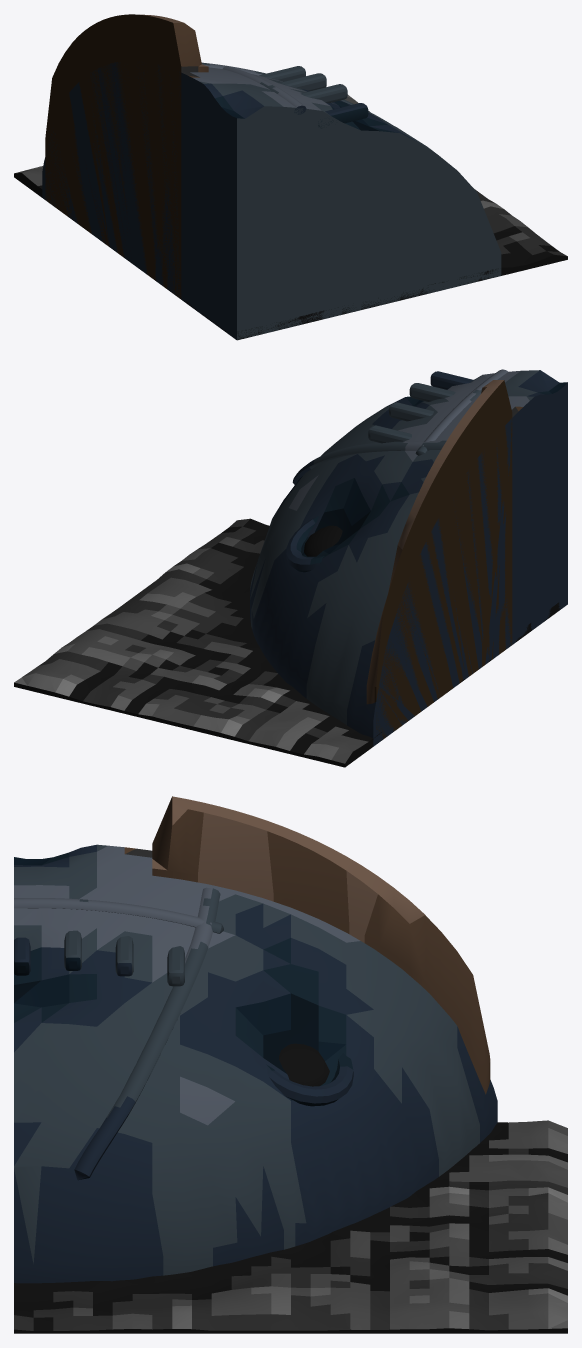
Rendered from armour_dome_wreck_tr.glb.
The picture shows the model from 3 angles, top to bottom: view 1: azimuth 30°, elevation 25°; view 2: azimuth 150°, elevation 25°; view 3: azimuth 270°, elevation 25°; orthographic projection. The views are drawn at different scales.
Parts seen in each view (by area): view 1: armour_dome_wreck_tr_shell, armour_dome_wreck_tr_housing, armour_dome_wreck_tr_tiles, armour_dome_wreck_tr_vent3, armour_dome_wreck_tr_seam_right, armour_dome_wreck_tr_vent2, armour_dome_wreck_tr_vent1, armour_dome_wreck_tr_vent0; view 2: armour_dome_wreck_tr_shell, armour_dome_wreck_tr_tiles, armour_dome_wreck_tr_housing, armour_dome_wreck_tr_ridge_r, armour_dome_wreck_tr_port_ring_r, armour_dome_wreck_tr_seam_right, armour_dome_wreck_tr_port_r, armour_dome_wreck_tr_vent1, armour_dome_wreck_tr_vent2, armour_dome_wreck_tr_vent0, armour_dome_wreck_tr_vent3; view 3: armour_dome_wreck_tr_shell, armour_dome_wreck_tr_tiles, armour_dome_wreck_tr_housing, armour_dome_wreck_tr_ridge_r, armour_dome_wreck_tr_seam_right, armour_dome_wreck_tr_port_ring_r, armour_dome_wreck_tr_port_r, armour_dome_wreck_tr_vent1, armour_dome_wreck_tr_vent2, armour_dome_wreck_tr_vent0.
Part boxes in pixels (left/top/right/bottom): armour_dome_wreck_tr_shell: left=42, top=62, right=501, bottom=340; armour_dome_wreck_tr_housing: left=45, top=14, right=208, bottom=299; armour_dome_wreck_tr_tiles: left=14, top=94, right=567, bottom=339; armour_dome_wreck_tr_vent3: left=318, top=103, right=368, bottom=128; armour_dome_wreck_tr_seam_right: left=223, top=66, right=306, bottom=114; armour_dome_wreck_tr_vent2: left=300, top=84, right=347, bottom=103; armour_dome_wreck_tr_vent1: left=280, top=73, right=326, bottom=90; armour_dome_wreck_tr_vent0: left=259, top=66, right=305, bottom=81; armour_dome_wreck_tr_shell: left=250, top=370, right=567, bottom=746; armour_dome_wreck_tr_tiles: left=14, top=518, right=559, bottom=767; armour_dome_wreck_tr_housing: left=366, top=380, right=512, bottom=738; armour_dome_wreck_tr_ridge_r: left=292, top=440, right=446, bottom=484; armour_dome_wreck_tr_port_ring_r: left=286, top=516, right=324, bottom=572; armour_dome_wreck_tr_seam_right: left=415, top=369, right=507, bottom=455; armour_dome_wreck_tr_port_r: left=304, top=525, right=342, bottom=556; armour_dome_wreck_tr_vent1: left=389, top=402, right=433, bottom=421; armour_dome_wreck_tr_vent2: left=409, top=383, right=455, bottom=401; armour_dome_wreck_tr_vent0: left=368, top=425, right=411, bottom=443; armour_dome_wreck_tr_vent3: left=430, top=371, right=473, bottom=389; armour_dome_wreck_tr_shell: left=14, top=844, right=497, bottom=1283; armour_dome_wreck_tr_tiles: left=14, top=1120, right=567, bottom=1333; armour_dome_wreck_tr_housing: left=152, top=796, right=490, bottom=1094; armour_dome_wreck_tr_ridge_r: left=74, top=887, right=220, bottom=1180; armour_dome_wreck_tr_seam_right: left=14, top=898, right=223, bottom=933; armour_dome_wreck_tr_port_ring_r: left=266, top=1053, right=353, bottom=1106; armour_dome_wreck_tr_port_r: left=279, top=1043, right=329, bottom=1086; armour_dome_wreck_tr_vent1: left=115, top=936, right=133, bottom=976; armour_dome_wreck_tr_vent2: left=64, top=930, right=81, bottom=970; armour_dome_wreck_tr_vent0: left=167, top=946, right=184, bottom=986.
Size of the model in its own units: 23.98 by 18.76 by 27.98.
